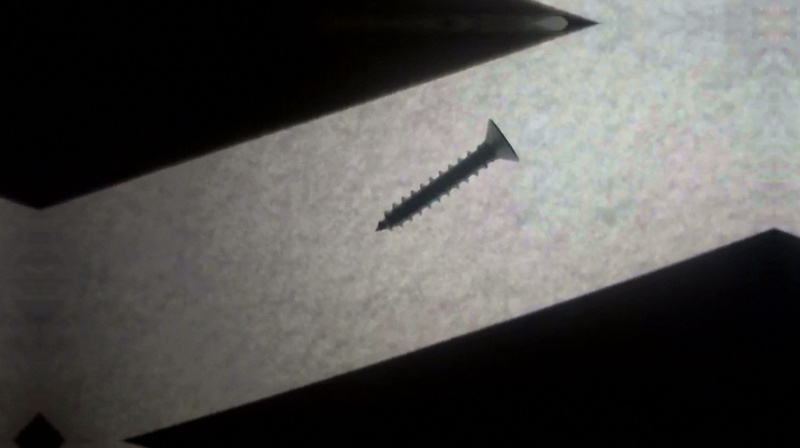S001: (373, 117, 521, 235)
